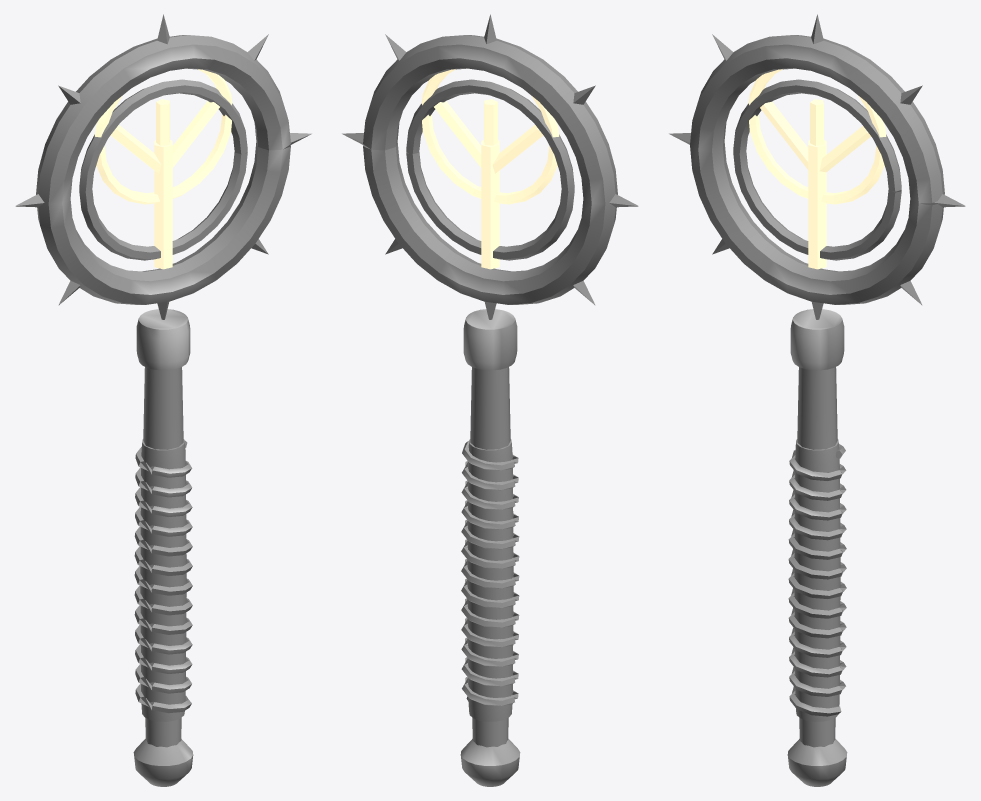
The model's file is seal_hallowed.glb.
The picture shows the model from 3 angles, left to right: view 1: azimuth 30°, elevation 25°; view 2: azimuth 150°, elevation 25°; view 3: azimuth 330°, elevation 25°; orthographic projection.
Parts seen in each view (by area): view 1: seal_hallowed; view 2: seal_hallowed; view 3: seal_hallowed.
Boxes of the visible parts, bbox=[...] form: seal_hallowed: bbox=[15, 14, 311, 786]; seal_hallowed: bbox=[342, 14, 638, 786]; seal_hallowed: bbox=[669, 14, 965, 786].
Bounding box in the file's own units: 0.23 × 0.567 × 0.04.
